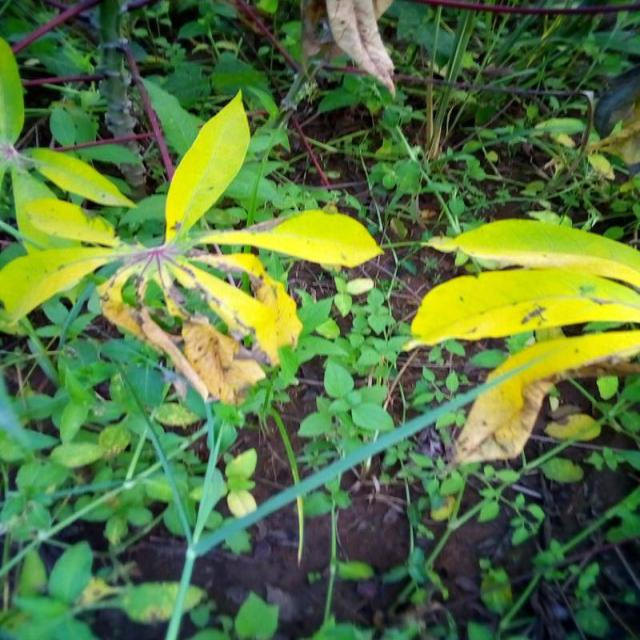cassava leaf: (0, 86, 384, 404), (451, 327, 639, 466), (405, 264, 639, 351), (426, 216, 639, 294), (164, 88, 250, 245), (194, 207, 384, 269)
